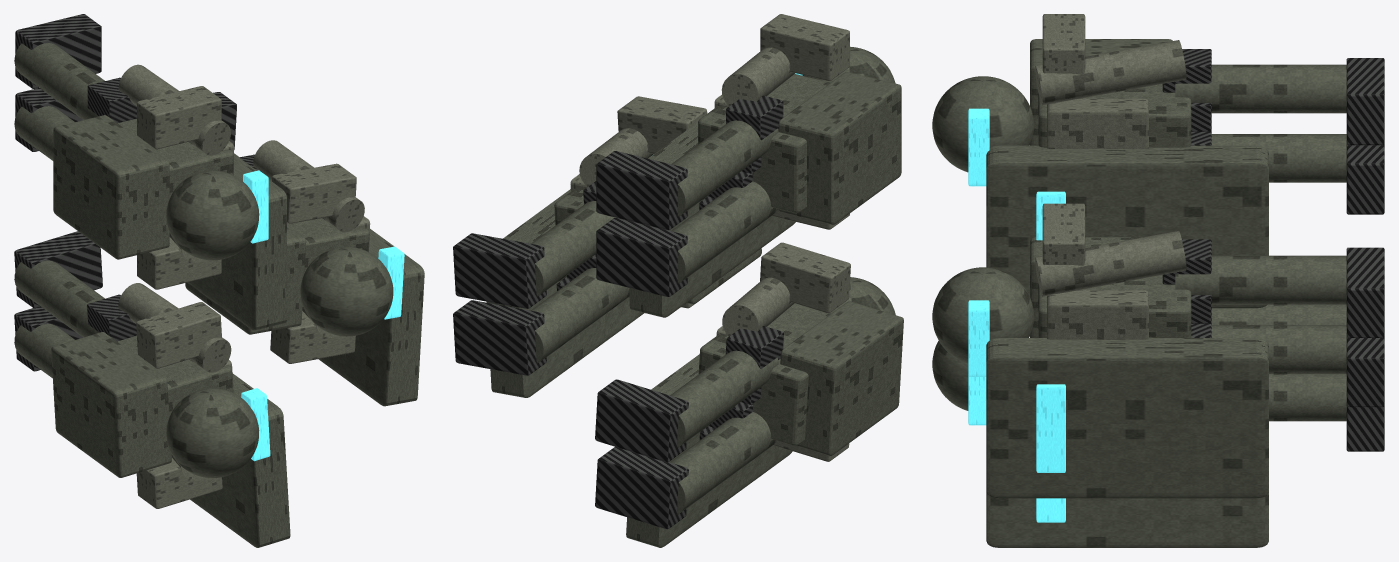
Rendered from v-u02-vanguard-assault-infantry-lod0.glb.
3 views of the same model, side by side, from view 1: azimuth 30°, elevation 25°; view 2: azimuth 150°, elevation 25°; view 3: azimuth 270°, elevation 25° (orthographic). The views are drawn at different scales.
Visible parts, largest first — view 1: soldier_1_backpack, soldier_2_backpack, soldier_0_shield, soldier_1_shield, soldier_2_shield, soldier_1_helmet, soldier_0_helmet, soldier_2_helmet, soldier_2_shoulder_1, soldier_1_shoulder_1, soldier_1_leg_1, soldier_2_leg_1 (+23 smaller); view 2: soldier_1_backpack, soldier_2_backpack, soldier_2_boot_1, soldier_1_boot_-1, soldier_1_boot_1, soldier_2_boot_-1, soldier_0_boot_-1, soldier_0_boot_1, soldier_2_torso, soldier_1_torso, soldier_0_shield, soldier_1_leg_-1 (+19 smaller); view 3: soldier_0_shield, soldier_1_shield, soldier_2_shield, soldier_0_leg_1, soldier_1_leg_1, soldier_0_helmet, soldier_1_helmet, soldier_1_arm_1, soldier_0_arm_1, soldier_1_chest, soldier_0_chest, soldier_0_leg_-1 (+25 smaller).
Part boxes in pixels (x1=…): soldier_1_backpack: x1=53, y1=115, x2=169, y2=259; soldier_2_backpack: x1=51, y1=332, x2=171, y2=477; soldier_0_shield: x1=318, y1=229, x2=424, y2=406; soldier_1_shield: x1=187, y1=154, x2=286, y2=330; soldier_2_shield: x1=190, y1=373, x2=290, y2=547; soldier_1_helmet: x1=166, y1=170, x2=259, y2=260; soldier_0_helmet: x1=300, y1=247, x2=393, y2=336; soldier_2_helmet: x1=166, y1=388, x2=259, y2=477; soldier_2_shoulder_1: x1=136, y1=302, x2=221, y2=368; soldier_1_shoulder_1: x1=137, y1=86, x2=221, y2=149; soldier_1_leg_1: x1=14, y1=43, x2=104, y2=119; soldier_2_leg_1: x1=14, y1=260, x2=104, y2=337; soldier_1_backpack: x1=778, y1=72, x2=901, y2=224; soldier_2_backpack: x1=780, y1=301, x2=903, y2=455; soldier_2_boot_1: x1=595, y1=379, x2=688, y2=462; soldier_1_boot_-1: x1=596, y1=218, x2=687, y2=296; soldier_1_boot_1: x1=596, y1=151, x2=687, y2=230; soldier_2_boot_-1: x1=595, y1=446, x2=688, y2=529; soldier_0_boot_-1: x1=453, y1=300, x2=546, y2=375; soldier_0_boot_1: x1=453, y1=233, x2=546, y2=308; soldier_2_torso: x1=698, y1=303, x2=830, y2=445; soldier_1_torso: x1=698, y1=74, x2=830, y2=212; soldier_0_shield: x1=486, y1=189, x2=644, y2=397; soldier_1_leg_-1: x1=671, y1=181, x2=777, y2=283; soldier_0_shield: x1=986, y1=338, x2=1268, y2=498; soldier_1_shield: x1=986, y1=145, x2=1268, y2=308; soldier_2_shield: x1=986, y1=492, x2=1268, y2=547; soldier_0_leg_1: x1=1175, y1=255, x2=1346, y2=304; soldier_1_leg_1: x1=1175, y1=64, x2=1346, y2=113; soldier_0_helmet: x1=932, y1=267, x2=1034, y2=363; soldier_1_helmet: x1=932, y1=76, x2=1034, y2=172; soldier_1_arm_1: x1=1035, y1=40, x2=1186, y2=105; soldier_0_arm_1: x1=1035, y1=231, x2=1186, y2=296; soldier_1_chest: x1=1047, y1=98, x2=1148, y2=148; soldier_0_chest: x1=1047, y1=290, x2=1148, y2=339; soldier_0_leg_-1: x1=1211, y1=325, x2=1346, y2=373.
Size of what is drawn, in the model's own units: 1.76 by 2.48 by 2.13.
4 materials, 4 textured.
